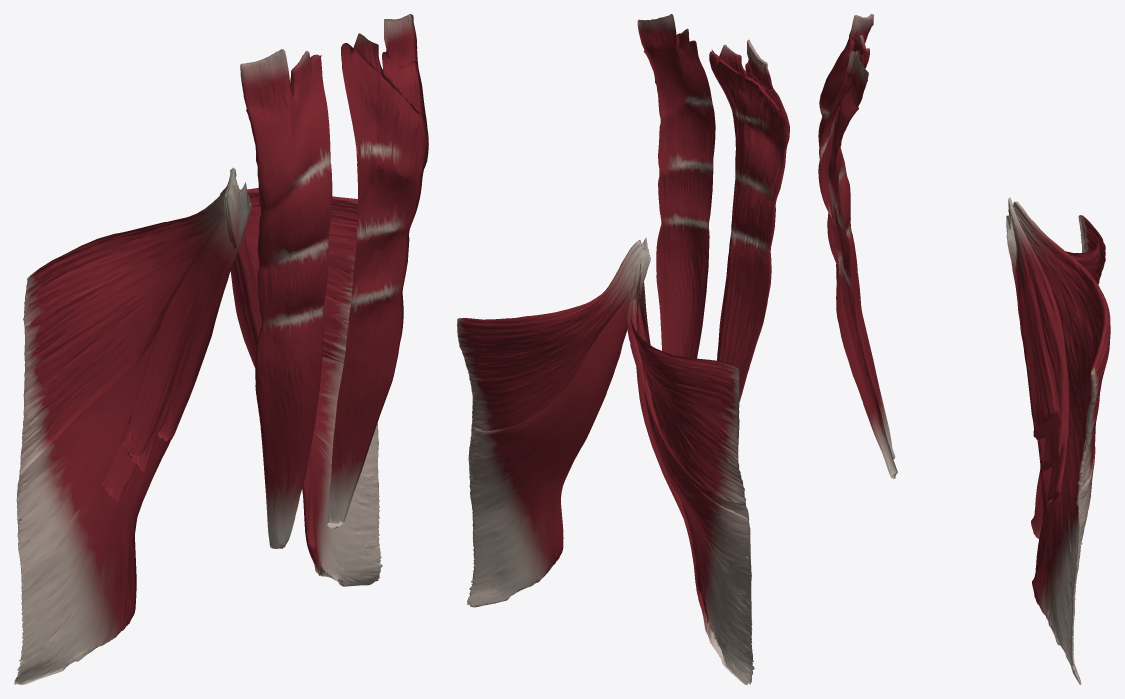
Rendered from roma-adapted-zanatomy-high-meshopt.glb.
3 renders of one model, left to right at view 1: azimuth 30°, elevation 25°; view 2: azimuth 150°, elevation 25°; view 3: azimuth 270°, elevation 25°, orthographic. The views are drawn at different scales.
Visible parts, largest first — view 1: left_latissimus_dorsi, right_rectus_abdominis, left_rectus_abdominis, right_latissimus_dorsi; view 2: right_latissimus_dorsi, left_latissimus_dorsi, left_rectus_abdominis, right_rectus_abdominis; view 3: right_latissimus_dorsi, left_rectus_abdominis, right_rectus_abdominis, left_latissimus_dorsi.
Part boxes in pixels (bbox=[...]): left_latissimus_dorsi: bbox=[14, 182, 251, 684]; right_rectus_abdominis: bbox=[240, 49, 332, 548]; left_rectus_abdominis: bbox=[327, 14, 428, 529]; right_latissimus_dorsi: bbox=[220, 167, 382, 586]; right_latissimus_dorsi: bbox=[457, 237, 650, 607]; left_latissimus_dorsi: bbox=[626, 261, 754, 684]; left_rectus_abdominis: bbox=[637, 14, 715, 358]; right_rectus_abdominis: bbox=[709, 39, 789, 402]; right_latissimus_dorsi: bbox=[1008, 197, 1110, 684]; left_rectus_abdominis: bbox=[818, 50, 897, 478]; right_rectus_abdominis: bbox=[818, 14, 895, 459]; left_latissimus_dorsi: bbox=[1006, 215, 1105, 538].
Bounding box in the file's own units: 0.1998 × 0.3648 × 0.1623.
